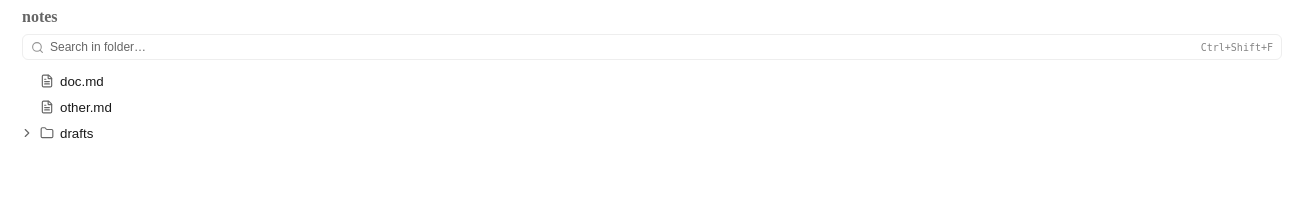
Test: 文件树原地重命名 › 点击其他文件或目录时关闭未提交的输入框，并执行行操作
Right-click the button "doc.md" at [82, 81], box x1=12 y1=68 x2=1292 y2=94
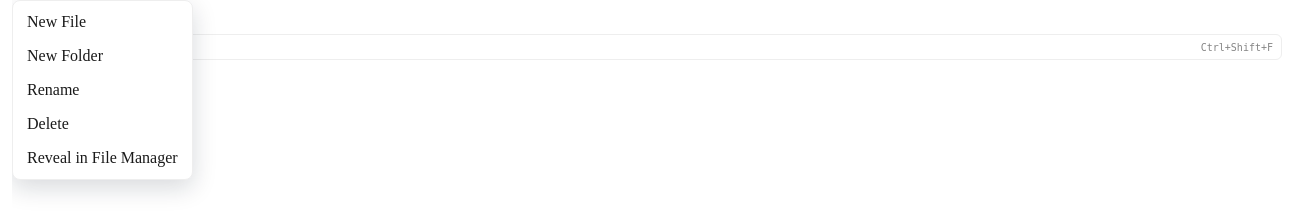
Click the menu item "Rename". click: [102, 90]
box: x1=19 y1=75 x2=186 y2=105
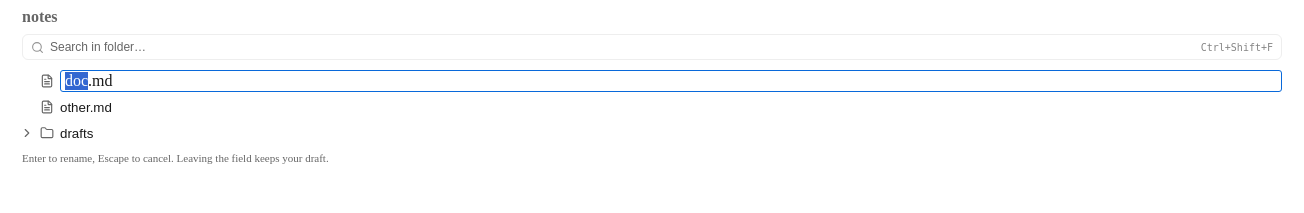
Replace the text in the field named "Rename" with "draft.md". click: [671, 81]
box: x1=60 y1=70 x2=1282 y2=92
Click the button "other.md". click: [86, 107]
box: x1=12 y1=94 x2=1292 y2=120
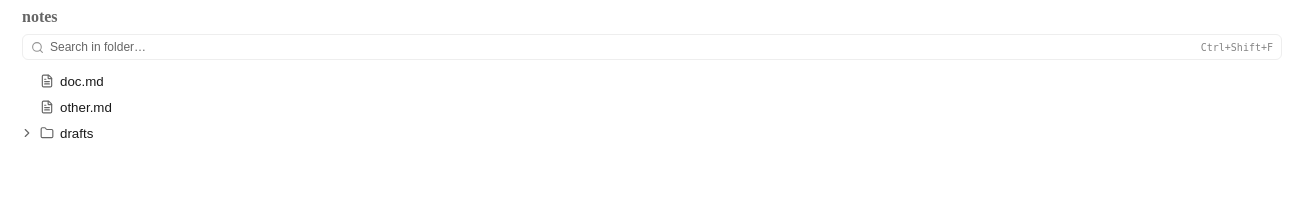
Expected: the message "rename" is gone
Right-click the button "doc.md" at [82, 81], box x1=12 y1=68 x2=1292 y2=94
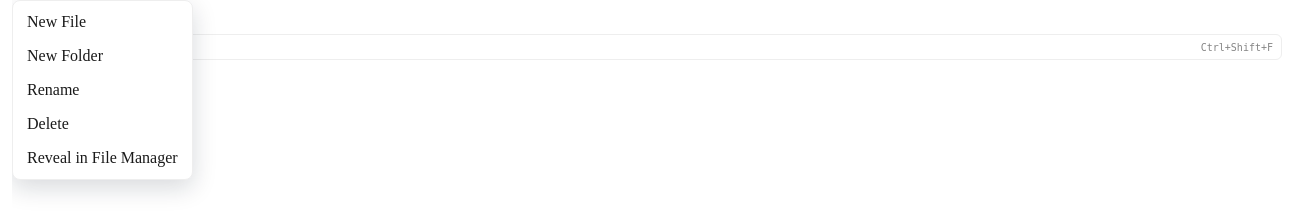
Click the menu item "Rename". click: [102, 90]
box: x1=19 y1=75 x2=186 y2=105
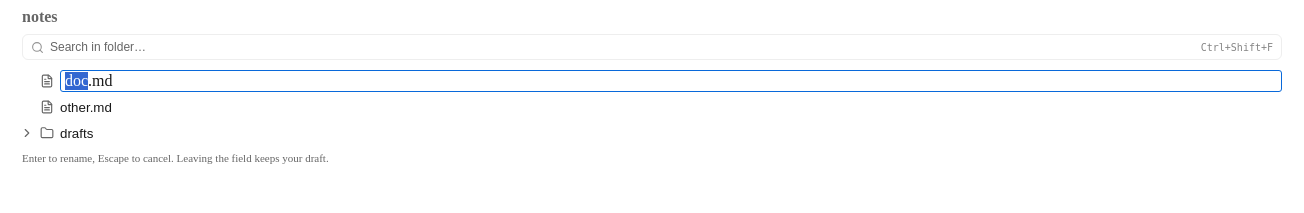
Replace the text in the field named "Rename" with "draft.md". click: [671, 81]
box: x1=60 y1=70 x2=1282 y2=92
Click the button "drafts". click: [77, 133]
box: x1=12 y1=120 x2=1292 y2=146
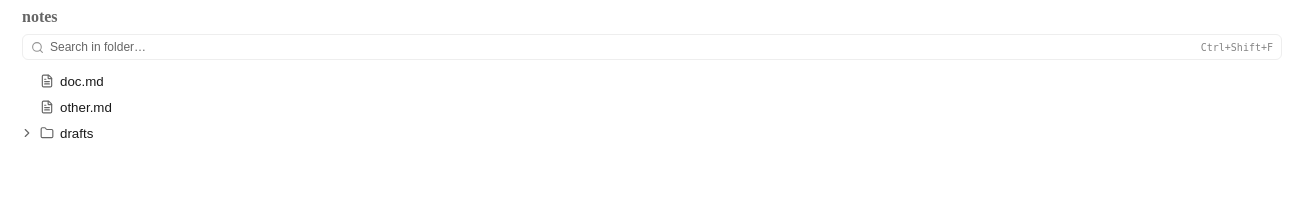
Expected: the message "rename" is gone
